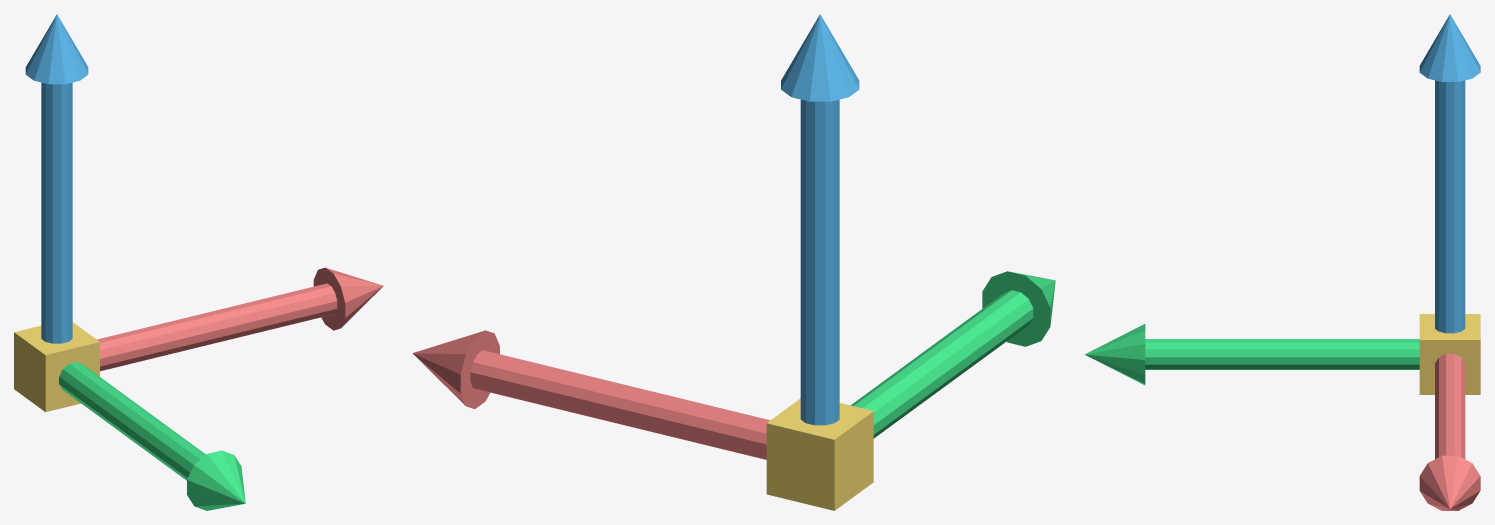
The model's file is gizmo.obj.
3 views of the same model, side by side, from view 1: azimuth 30°, elevation 25°; view 2: azimuth 150°, elevation 25°; view 3: azimuth 270°, elevation 25° (orthographic). The views are drawn at different scales.
Visible parts, largest first — view 1: cylinder, cone, cuboid; view 2: cylinder, cone, cuboid; view 3: cylinder, cone, cuboid.
Boxes of the visible parts, left/top/right/bottom form: cylinder: left=41, top=82, right=337, bottom=480; cone: left=25, top=14, right=383, bottom=510; cuboid: left=14, top=322, right=99, bottom=412; cylinder: left=470, top=99, right=1033, bottom=459; cone: left=412, top=14, right=1055, bottom=408; cuboid: left=766, top=398, right=873, bottom=510; cylinder: left=1145, top=80, right=1465, bottom=458; cone: left=1085, top=14, right=1480, bottom=510; cuboid: left=1419, top=314, right=1480, bottom=394.
Size of the model in its own units: 1.22 by 1.25 by 1.22.
1 material, 1 textured.
